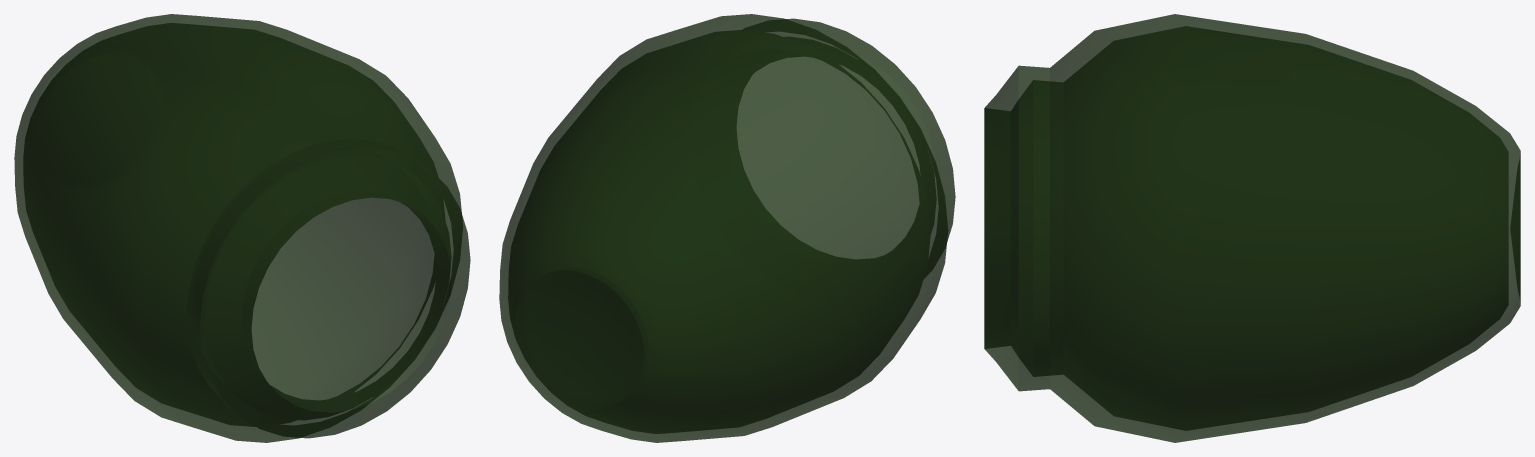
File: MeshVaseOpen_0.obj
3 renders of one model, left to right at view 1: azimuth 30°, elevation 25°; view 2: azimuth 150°, elevation 25°; view 3: azimuth 270°, elevation 25°, orthographic. The views are drawn at different scales.
Visible parts, largest first — view 1: VaseOpen; view 2: VaseOpen; view 3: VaseOpen.
Boxes of the visible parts, bbox=[...] form: VaseOpen: bbox=[14, 14, 470, 442]; VaseOpen: bbox=[499, 14, 955, 442]; VaseOpen: bbox=[984, 14, 1520, 442].
Bounding box in the file's own units: 0.195 × 0.195 × 0.2435.
